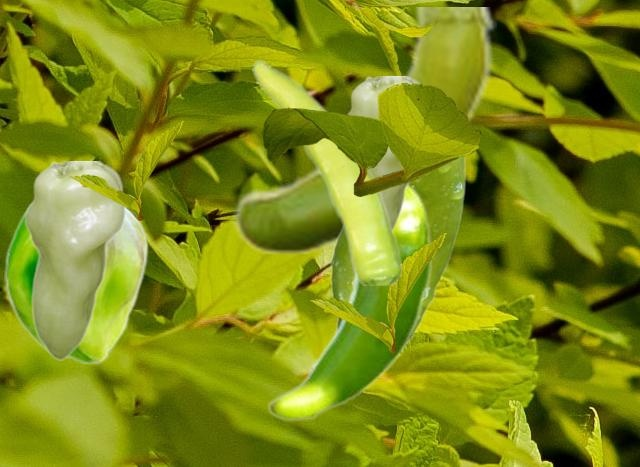green_chili: (231, 7, 495, 252), (266, 183, 432, 421), (252, 58, 400, 284), (330, 157, 464, 342), (4, 198, 148, 364), (22, 161, 124, 359), (346, 76, 420, 229)
